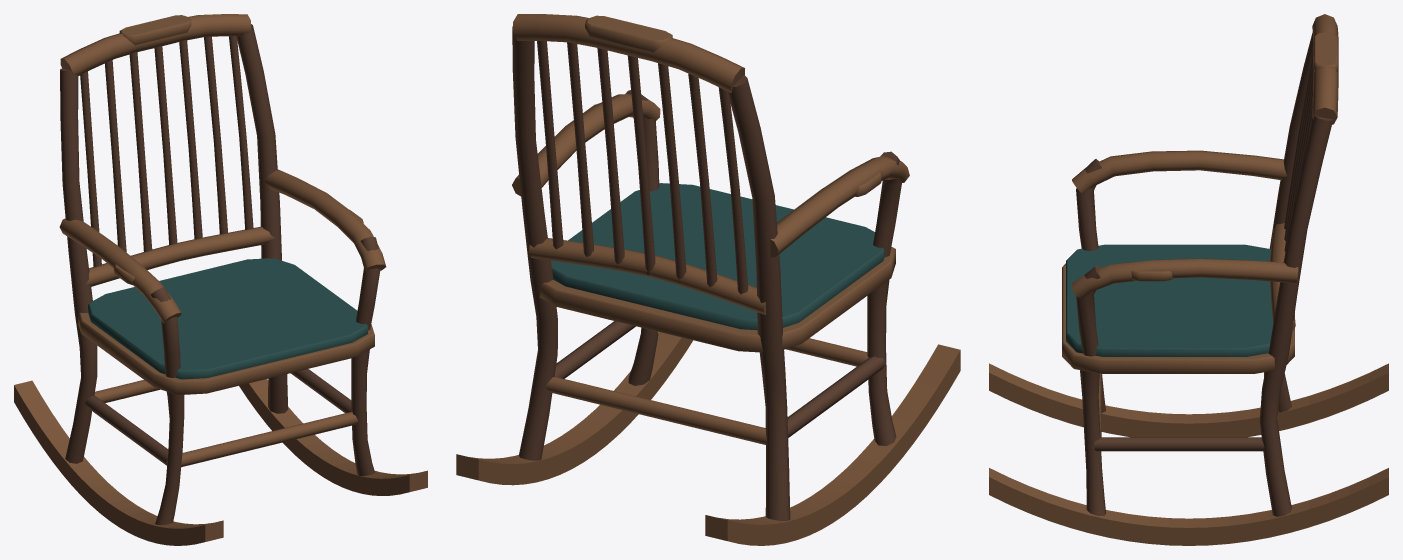
File: rpg-mansion-curved-rocker-01.glb
3 renders of one model, left to right at view 1: azimuth 30°, elevation 25°; view 2: azimuth 150°, elevation 25°; view 3: azimuth 270°, elevation 25°, orthographic. The views are drawn at different scales.
Visible parts, largest first — view 1: rpg-mansion-curved-rocker-01; view 2: rpg-mansion-curved-rocker-01; view 3: rpg-mansion-curved-rocker-01.
Boxes of the visible parts, x1,y1,x2,y2 form: rpg-mansion-curved-rocker-01: (14,14,427,545); rpg-mansion-curved-rocker-01: (456,14,960,545); rpg-mansion-curved-rocker-01: (989,14,1388,545).
Size of the model in its own units: 0.616 by 1.05 by 0.865.
